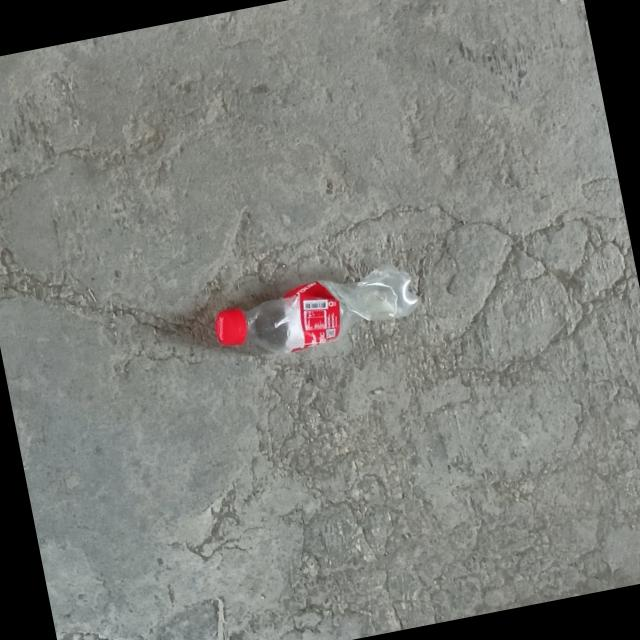Bottle: (214, 265, 418, 354)
